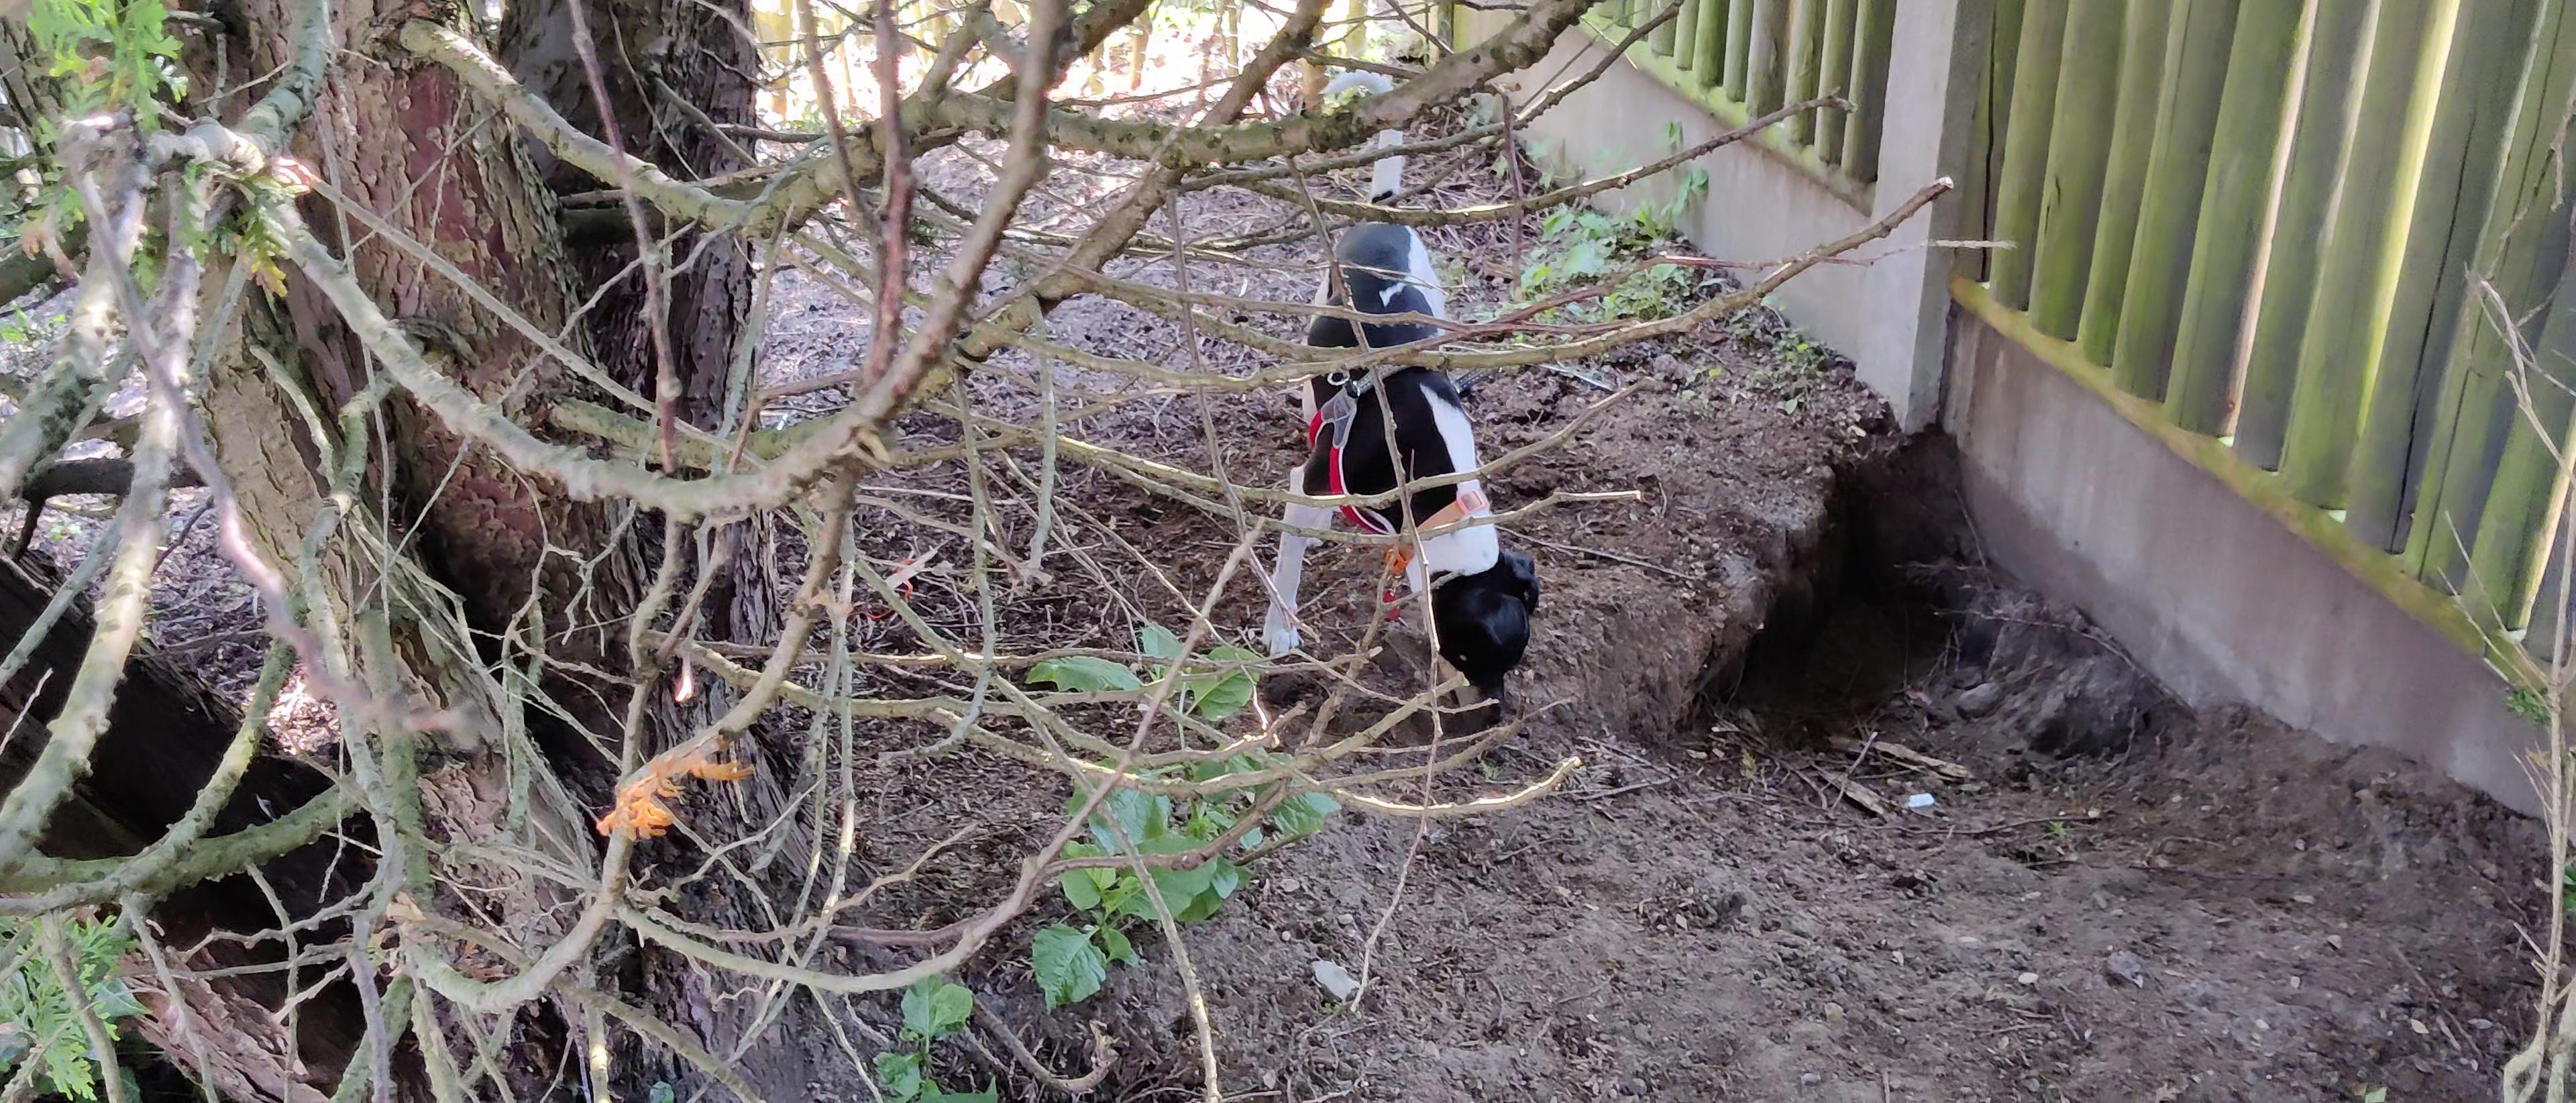Dog: (1245, 58, 1536, 728)
